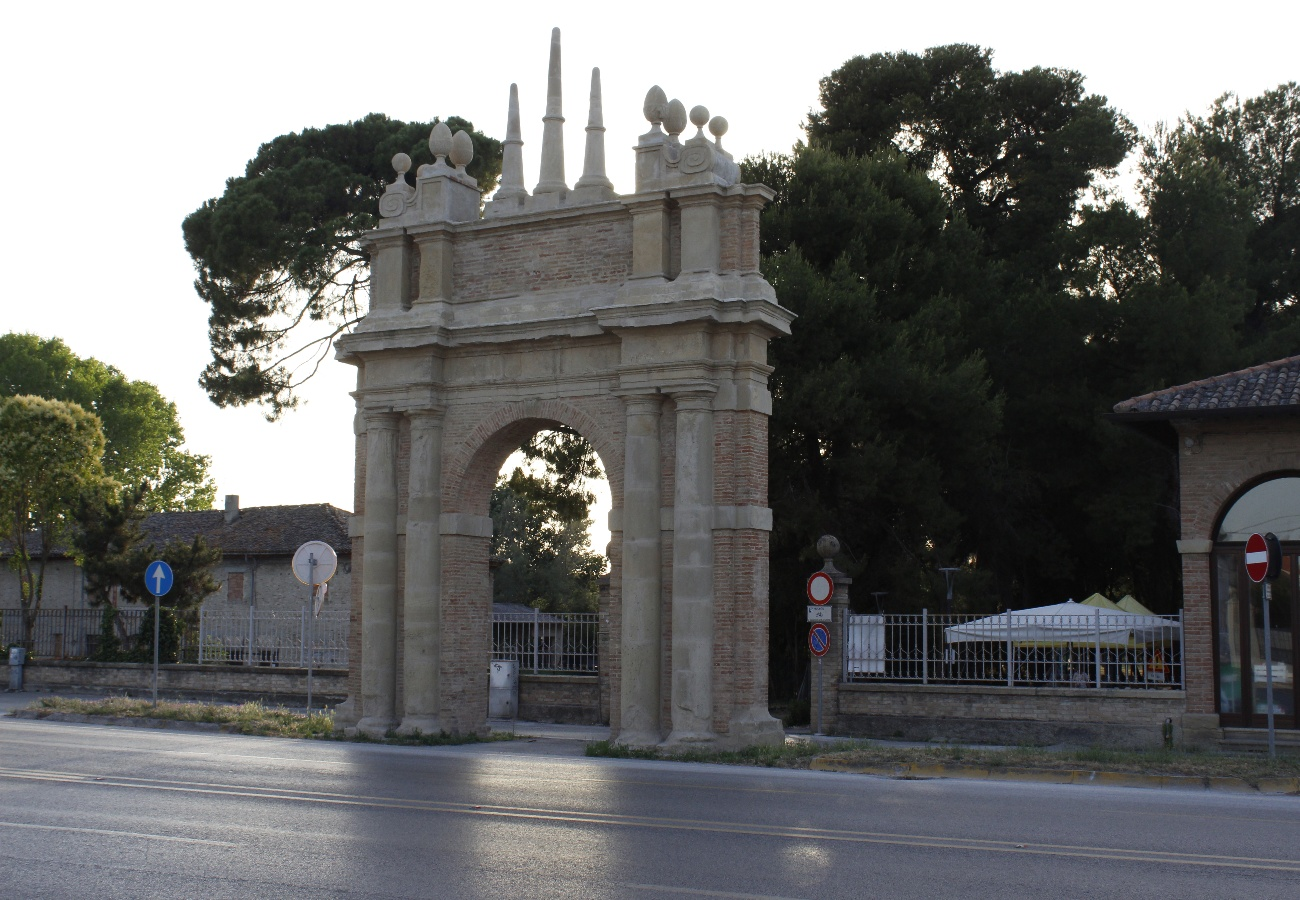Arco di Trionfo: (332, 25, 798, 760)
